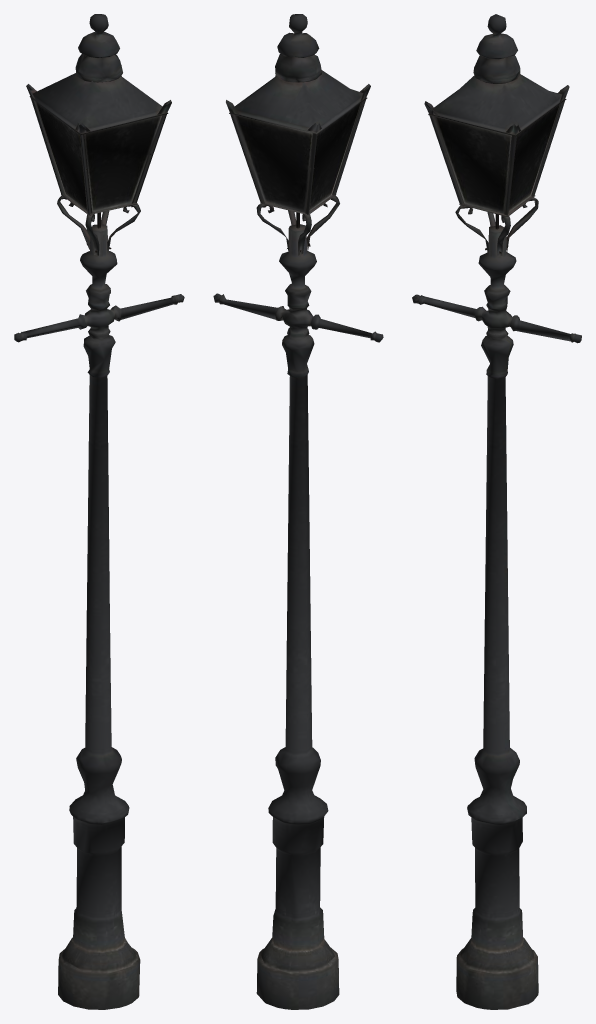
The model's file is laterne_alt.glb.
The picture shows the model from 3 angles, left to right: view 1: azimuth 30°, elevation 25°; view 2: azimuth 150°, elevation 25°; view 3: azimuth 330°, elevation 25°; orthographic projection.
Visible parts, largest first — view 1: street_lamp_01; view 2: street_lamp_01; view 3: street_lamp_01.
Part boxes in pixels (bbox=[...]): street_lamp_01: bbox=[14, 14, 184, 1009]; street_lamp_01: bbox=[213, 14, 383, 1009]; street_lamp_01: bbox=[412, 14, 581, 1009].
Size of the model in its own units: 0.7031 by 3.87 by 0.3855.
Materials: 1 (1 with a texture image).
